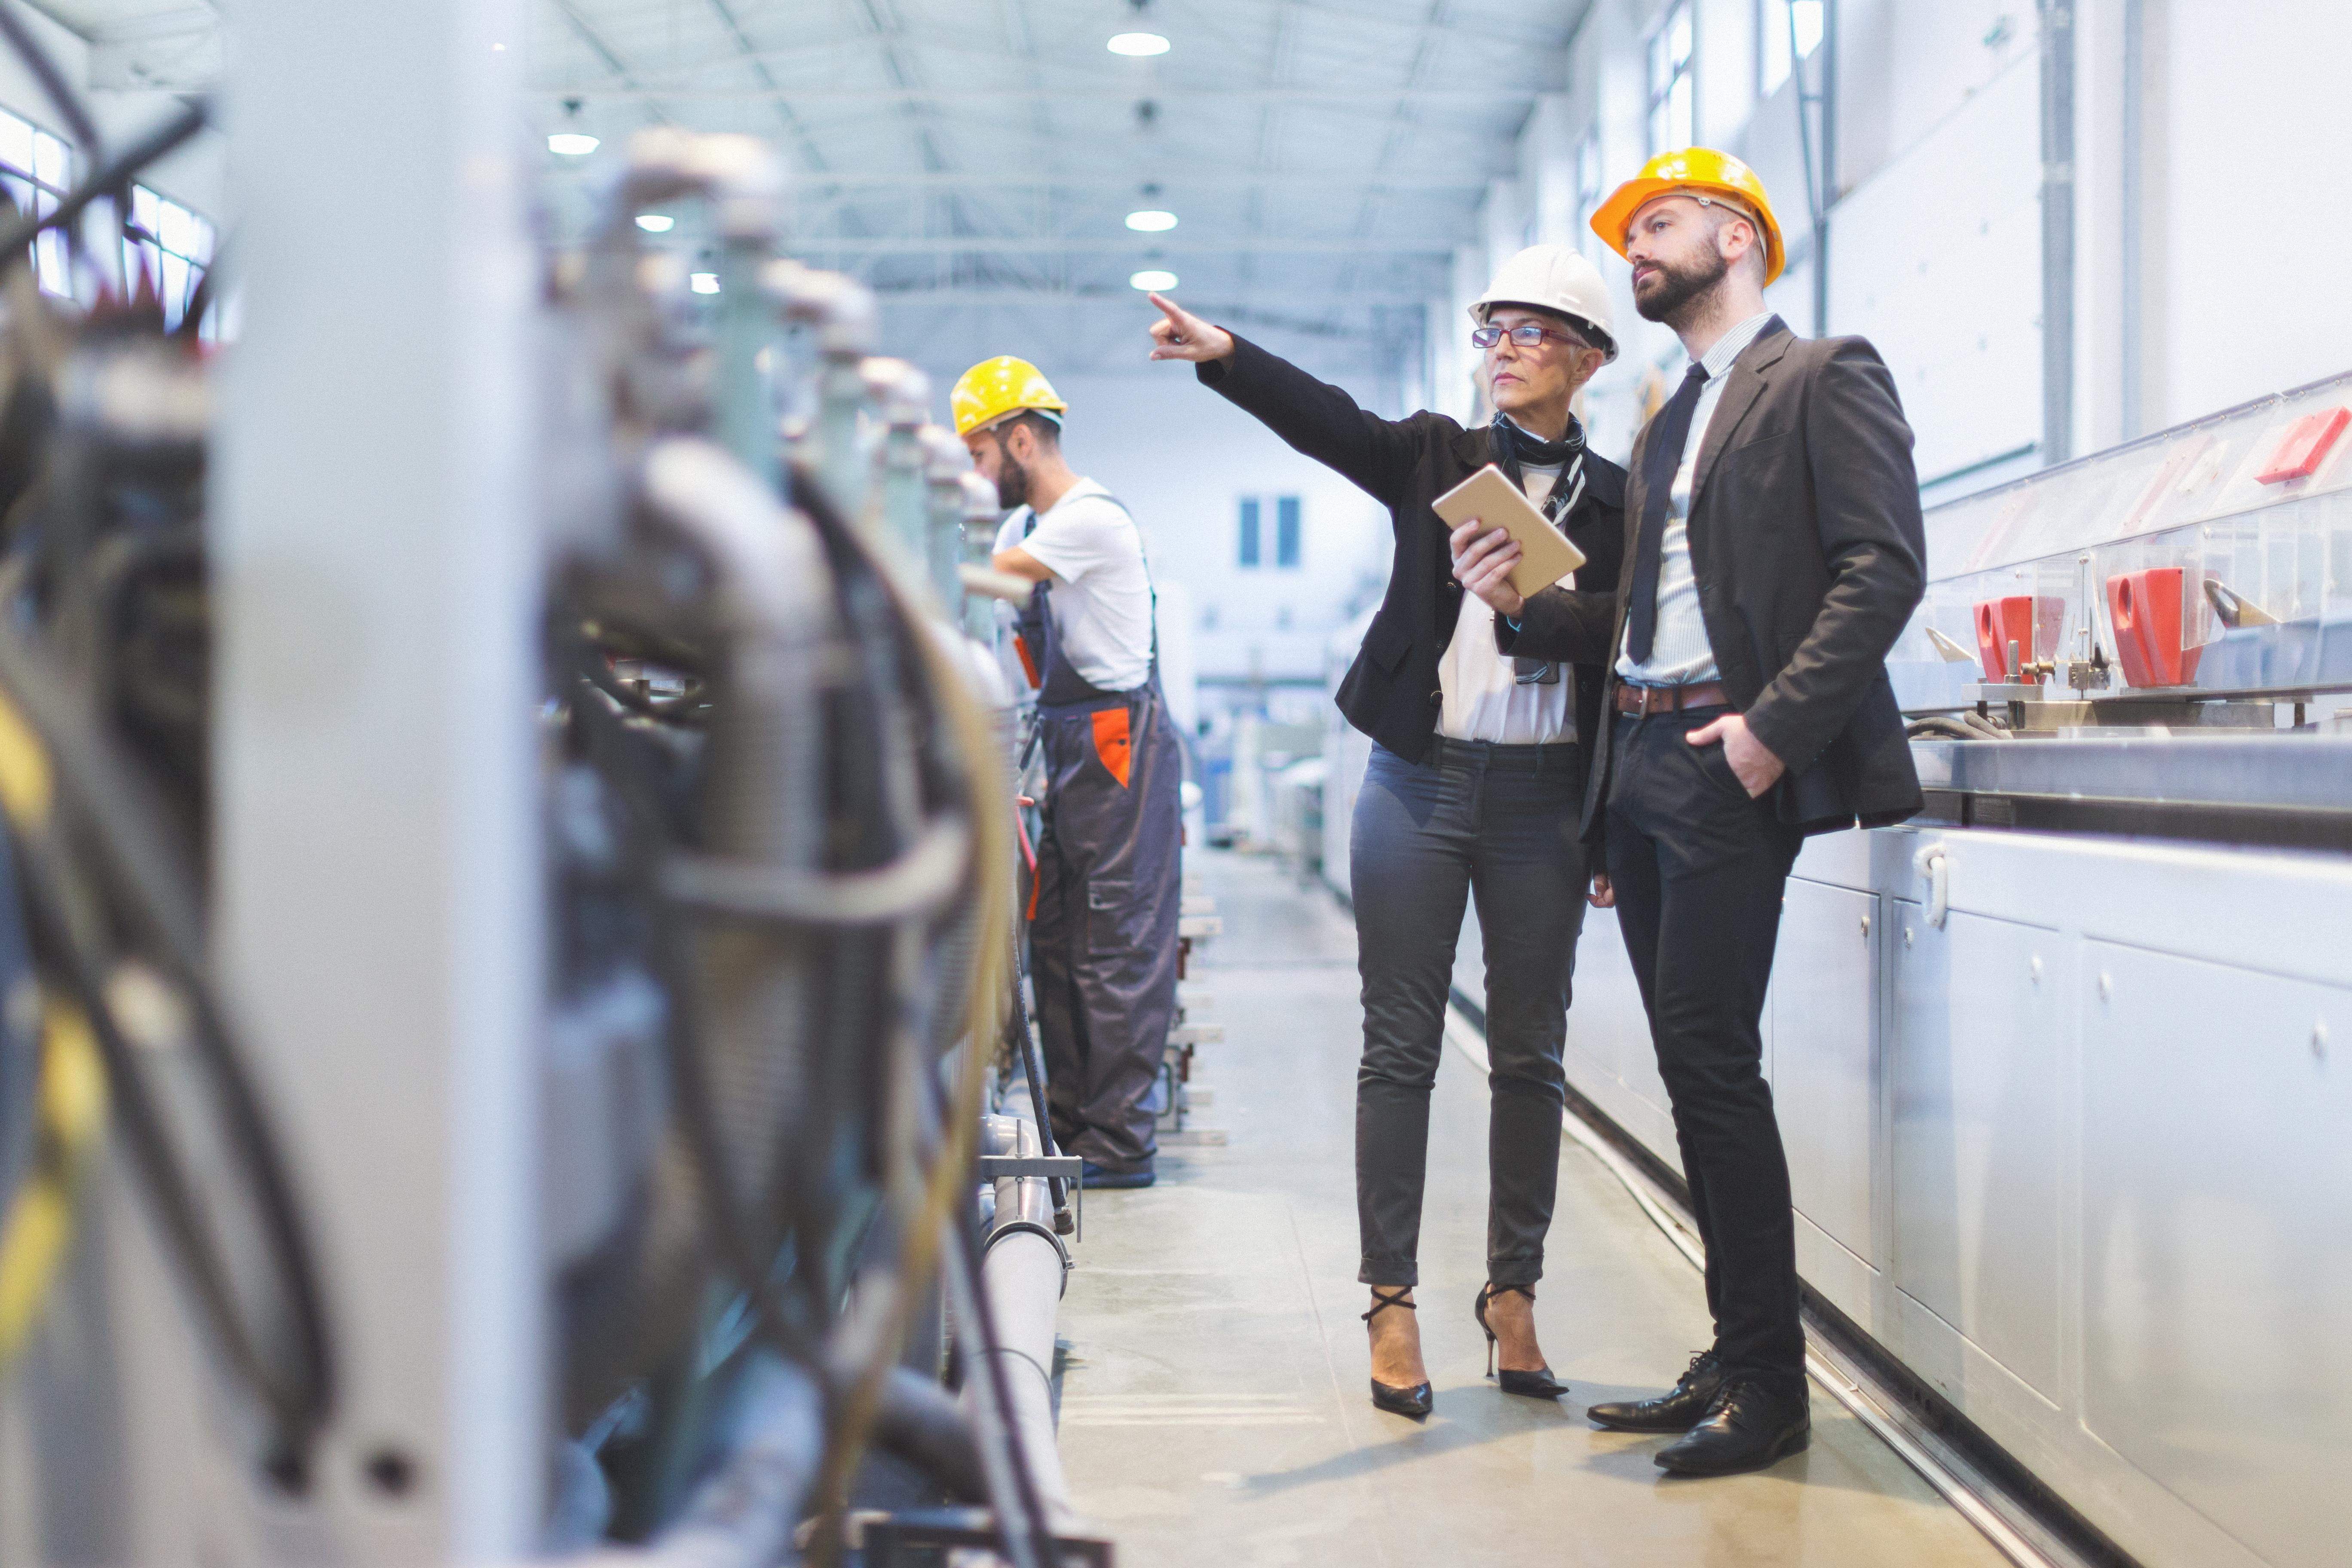helmet: (1589, 142, 1792, 283), (1468, 238, 1626, 366), (945, 352, 1076, 439)
